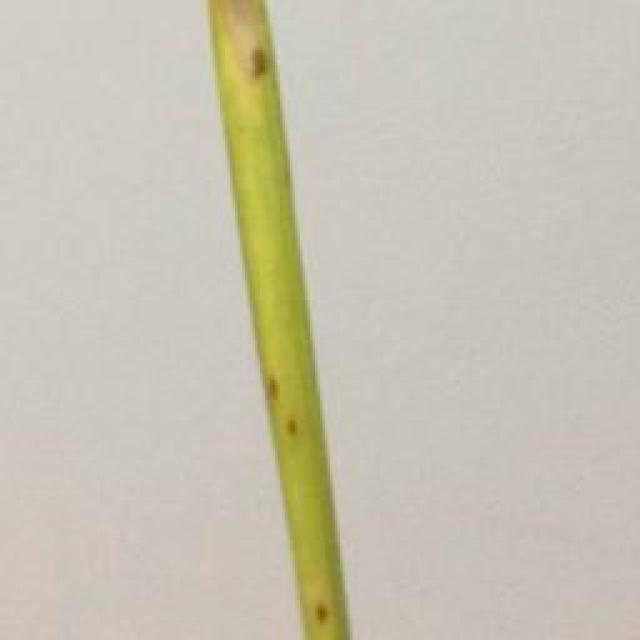Bacterial_Blight: (202, 0, 277, 112)
Brown_Spot: (249, 362, 294, 410), (272, 403, 314, 445), (303, 595, 339, 636)
